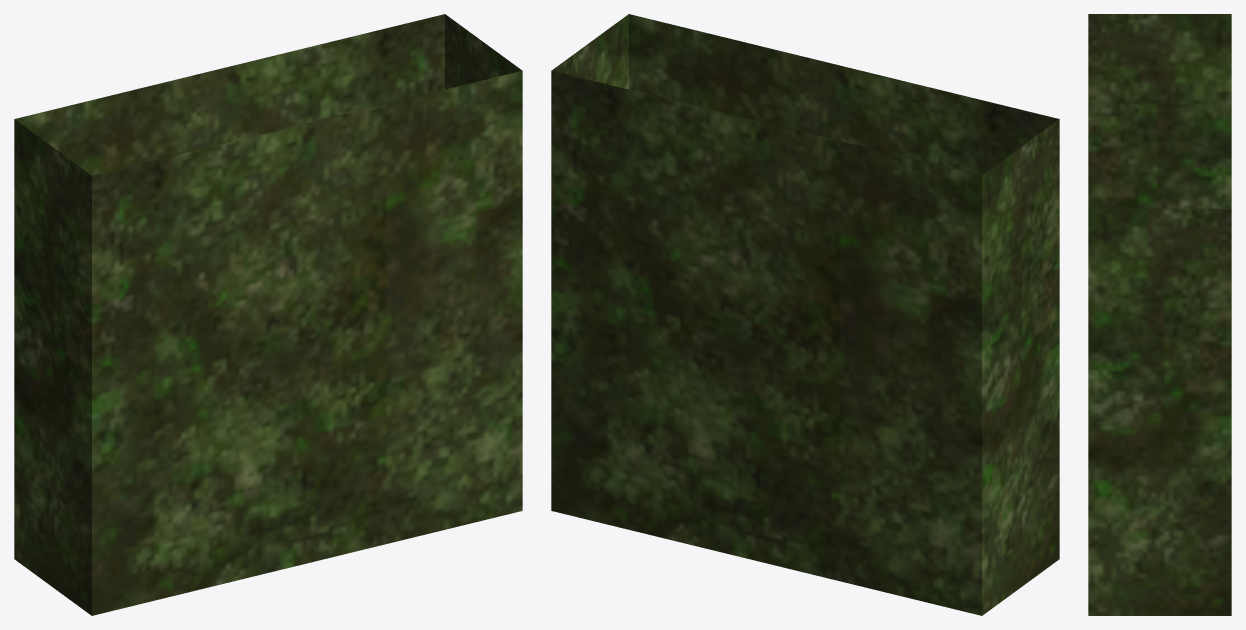
File: OVERHILL_A_01_OBJECT248.fbx
3 views of the same model, side by side, from view 1: azimuth 30°, elevation 25°; view 2: azimuth 150°, elevation 25°; view 3: azimuth 270°, elevation 25° (orthographic). The views are drawn at different scales.
Visible parts, largest first — view 1: OVERHILL_A_01_OBJECT248; view 2: OVERHILL_A_01_OBJECT248; view 3: OVERHILL_A_01_OBJECT248.
Boxes of the visible parts, left/top/right/bottom form: OVERHILL_A_01_OBJECT248: left=14, top=14, right=522, bottom=615; OVERHILL_A_01_OBJECT248: left=551, top=14, right=1059, bottom=615; OVERHILL_A_01_OBJECT248: left=1088, top=14, right=1231, bottom=615.
Size of the model in its own units: 23912 by 23354 by 7452.
Materials: 1 (1 with a texture image).
